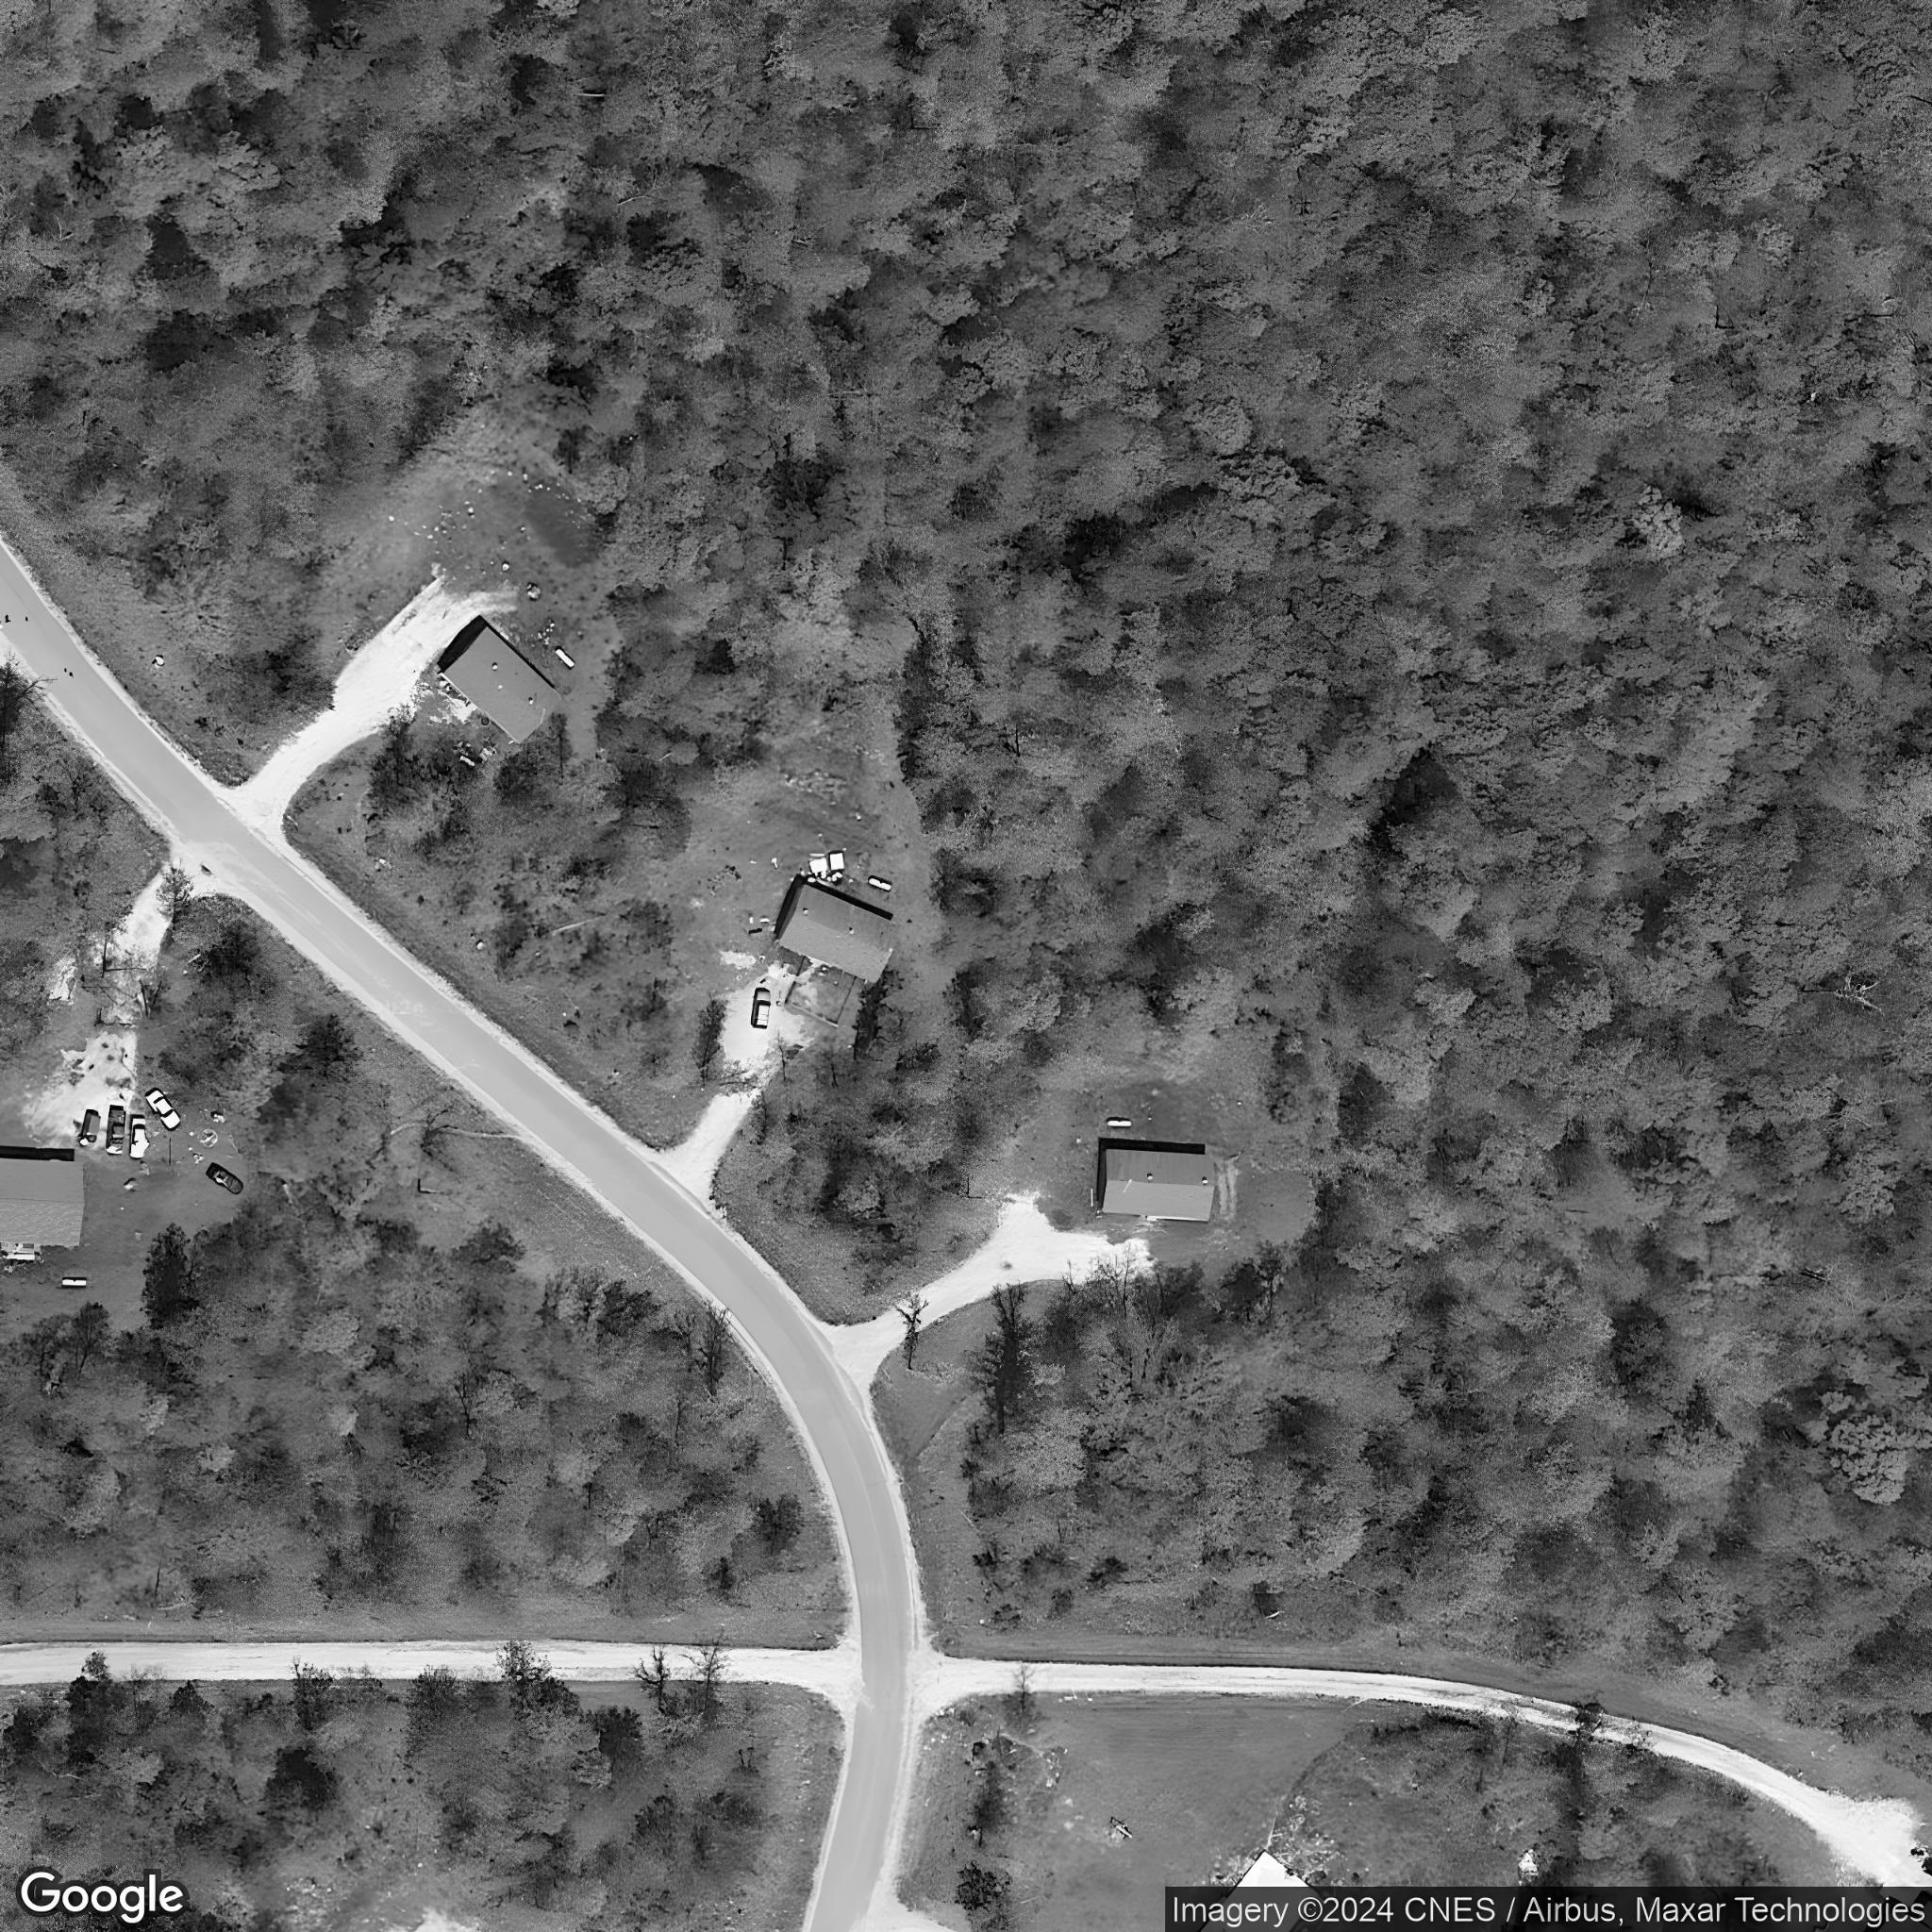House: (439, 623, 566, 747), (773, 881, 895, 985), (1095, 1148, 1215, 1221), (2, 1157, 88, 1247), (1235, 1849, 1311, 1884)
Propane: (552, 642, 580, 672), (862, 872, 895, 893), (58, 1274, 90, 1290), (1104, 1116, 1134, 1131)
